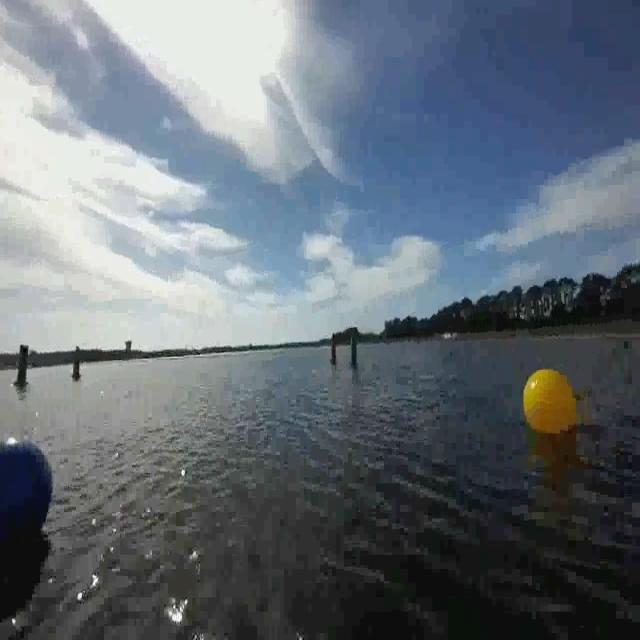blue-buoy: (0, 432, 53, 552)
green-column-buoy: (12, 344, 30, 390), (346, 327, 361, 370)
red-column-buoy: (328, 337, 338, 367), (72, 357, 82, 379)
yellow-buoy: (518, 363, 582, 437)
